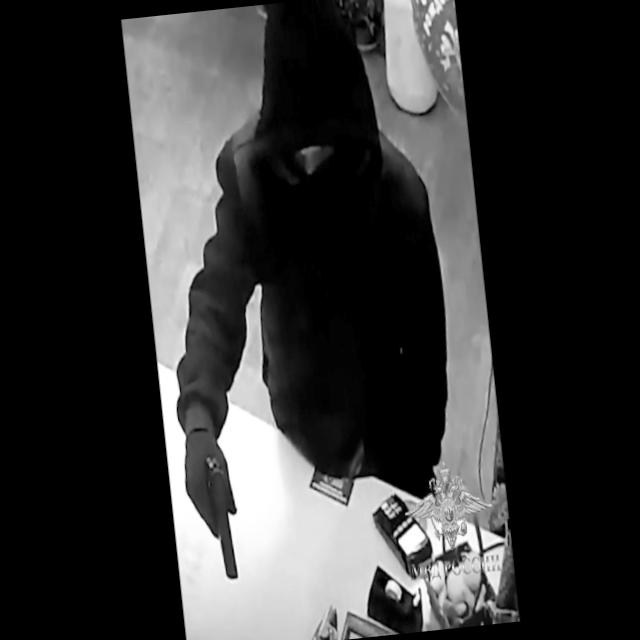gun: (182, 433, 248, 592)
person with a gun: (137, 0, 466, 590)
